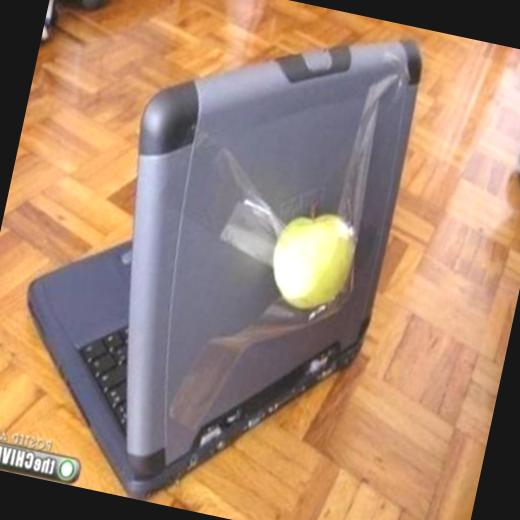Apple: (253, 205, 358, 333)
